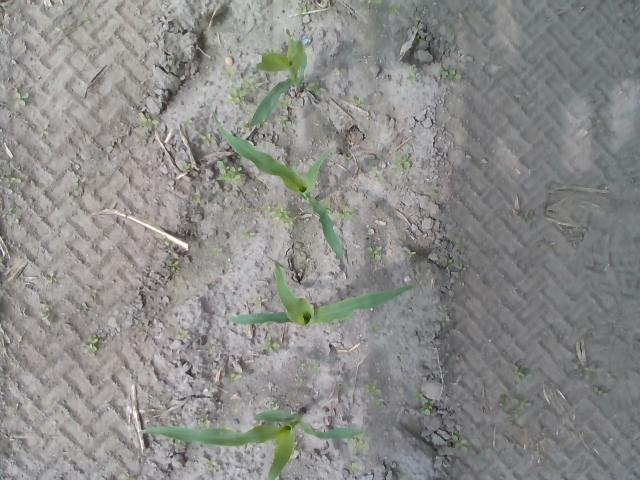Maize: (211, 110, 348, 258), (142, 407, 371, 480), (225, 260, 418, 331), (247, 36, 307, 128)
Weeds: (225, 66, 258, 106), (263, 204, 296, 230), (498, 396, 530, 416), (216, 160, 242, 182), (413, 393, 432, 415), (260, 334, 280, 353), (438, 304, 450, 328), (514, 366, 529, 385), (349, 437, 368, 451), (311, 79, 326, 96), (85, 335, 99, 353), (364, 382, 382, 395), (452, 436, 467, 451), (15, 91, 29, 107), (398, 153, 411, 170), (353, 94, 368, 108), (338, 207, 354, 220), (39, 302, 50, 320), (367, 244, 381, 258), (205, 339, 218, 353), (202, 133, 214, 148), (447, 68, 462, 80), (2, 175, 22, 184), (144, 116, 159, 128), (254, 295, 267, 308), (280, 115, 292, 128), (296, 1, 308, 13), (210, 246, 222, 258), (239, 230, 253, 240), (388, 4, 400, 15), (47, 272, 58, 284), (368, 0, 386, 7), (199, 415, 210, 426), (168, 258, 178, 270), (208, 462, 218, 474), (230, 372, 242, 382), (168, 436, 182, 444), (290, 449, 300, 460), (282, 99, 294, 108), (190, 193, 201, 202), (403, 297, 417, 304), (6, 206, 16, 214), (182, 119, 190, 129), (407, 250, 416, 258), (352, 462, 359, 472)
